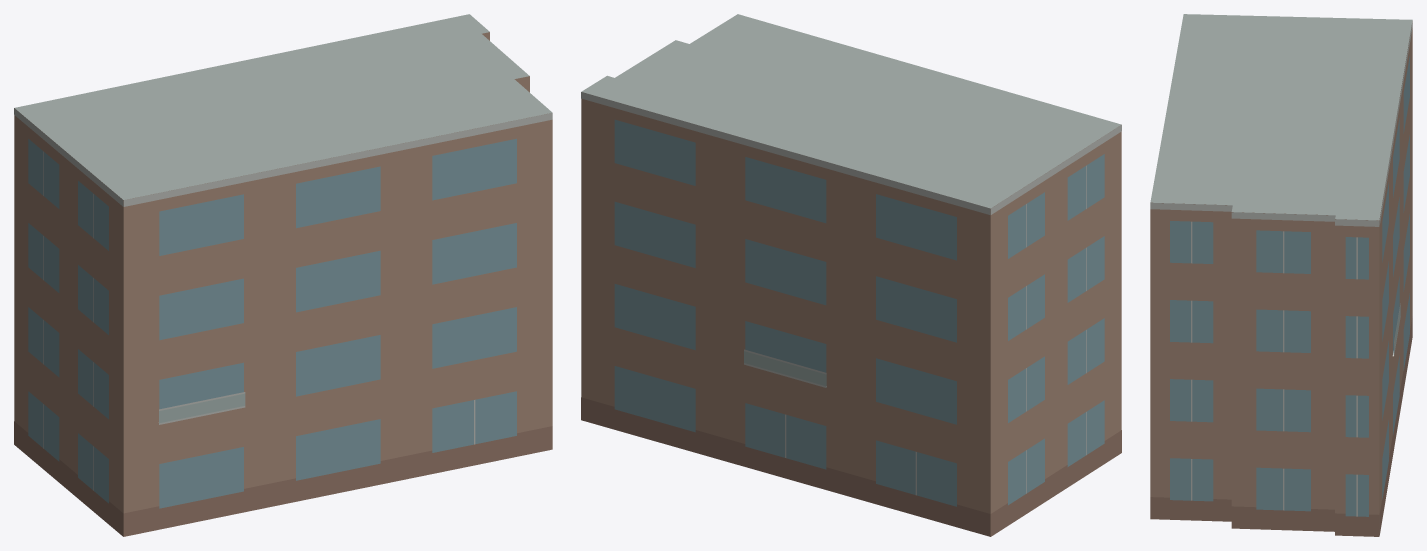
The model's file is survey-upis-32736507.glb.
The picture shows the model from 3 angles, left to right: view 1: azimuth 30°, elevation 25°; view 2: azimuth 150°, elevation 25°; view 3: azimuth 270°, elevation 25°; orthographic projection. The views are drawn at different scales.
Parts seen in each view (by area): view 1: survey-upis-32736507.tmp; view 2: survey-upis-32736507.tmp; view 3: survey-upis-32736507.tmp.
Part boxes in pixels (left/top/right/bottom): survey-upis-32736507.tmp: left=14, top=14, right=552, bottom=536; survey-upis-32736507.tmp: left=581, top=14, right=1121, bottom=536; survey-upis-32736507.tmp: left=1150, top=14, right=1412, bottom=536.
Bounding box in the file's own units: 16.66 × 11.9 × 8.95.
